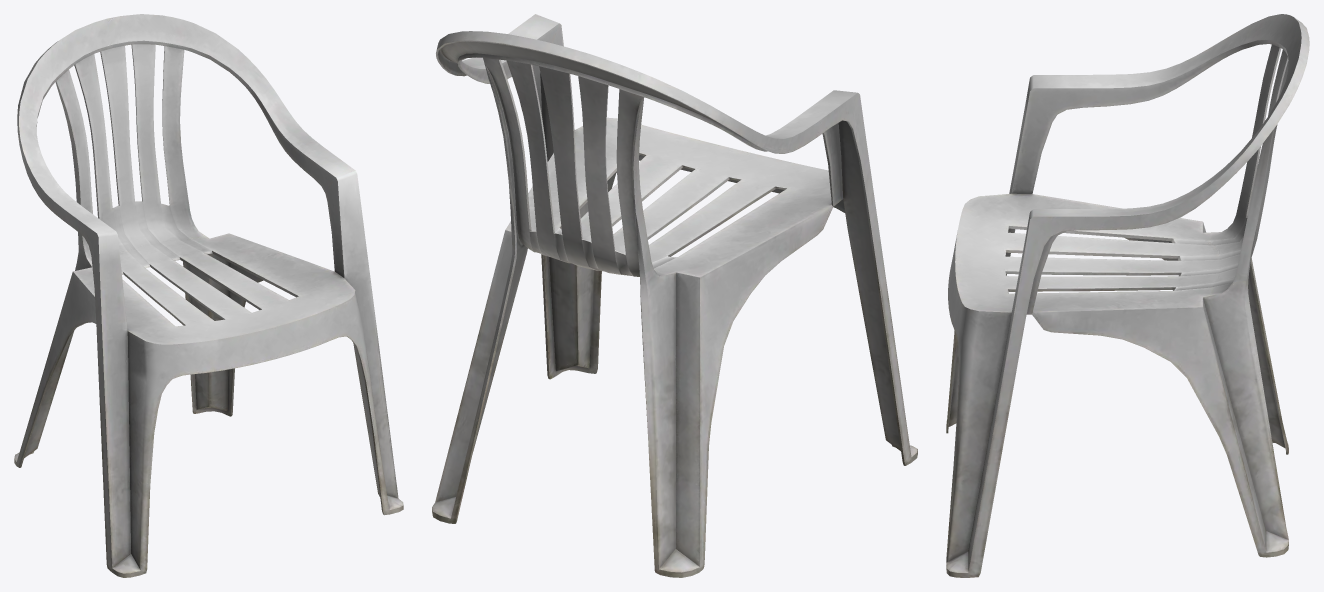
File: 017968cd-fdac-41ab-ae28-b90cd64e5e41.glb
3 views of the same model, side by side, from view 1: azimuth 30°, elevation 25°; view 2: azimuth 150°, elevation 25°; view 3: azimuth 270°, elevation 25° (orthographic). The views are drawn at different scales.
Visible parts, largest first — view 1: plastic_monobloc_chair_01; view 2: plastic_monobloc_chair_01; view 3: plastic_monobloc_chair_01.
Part boxes in pixels (x1,y1,x2,y2): plastic_monobloc_chair_01: (14, 14, 403, 577); plastic_monobloc_chair_01: (432, 14, 917, 577); plastic_monobloc_chair_01: (946, 14, 1309, 577).
Bounding box in the file's own units: 0.6419 × 0.8798 × 0.6276.
1 material, 1 textured.
